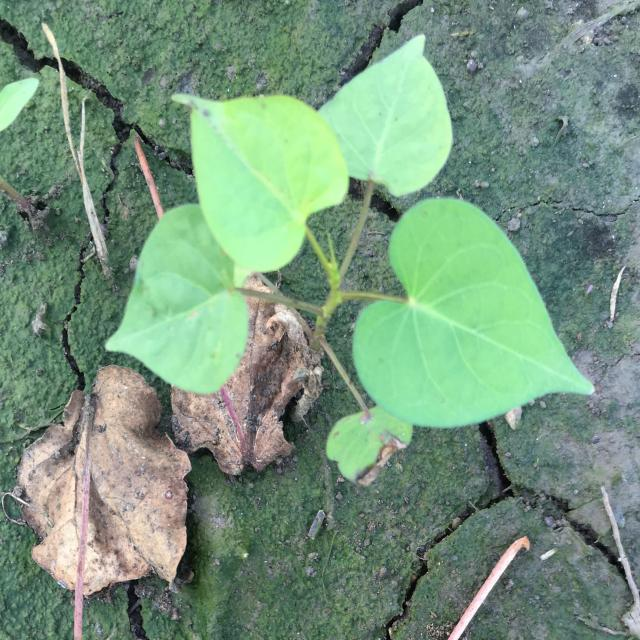MorningGlory: (105, 35, 596, 485)
